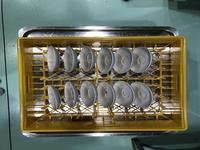Dish: (113, 80, 135, 107), (131, 81, 152, 108), (132, 47, 153, 73), (114, 47, 133, 74), (98, 81, 116, 108), (80, 80, 97, 107), (96, 48, 114, 73), (80, 45, 94, 73), (64, 46, 77, 73), (48, 85, 62, 110), (64, 82, 78, 107), (47, 46, 60, 72)
